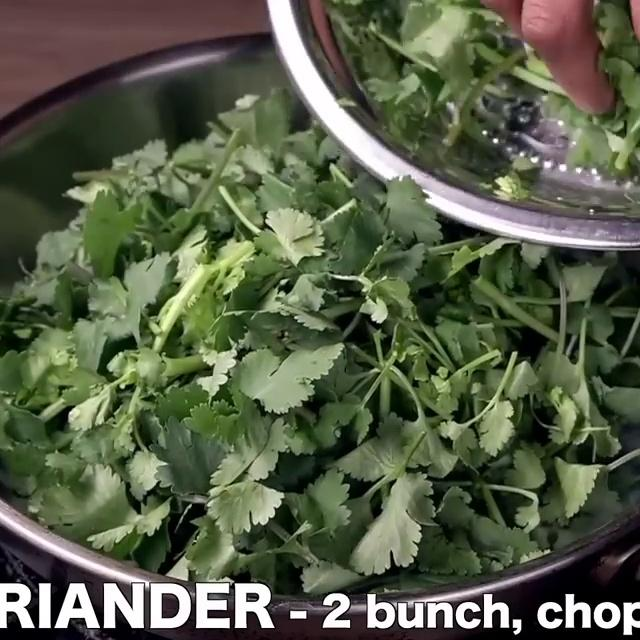cilantro: (6, 161, 640, 561)
